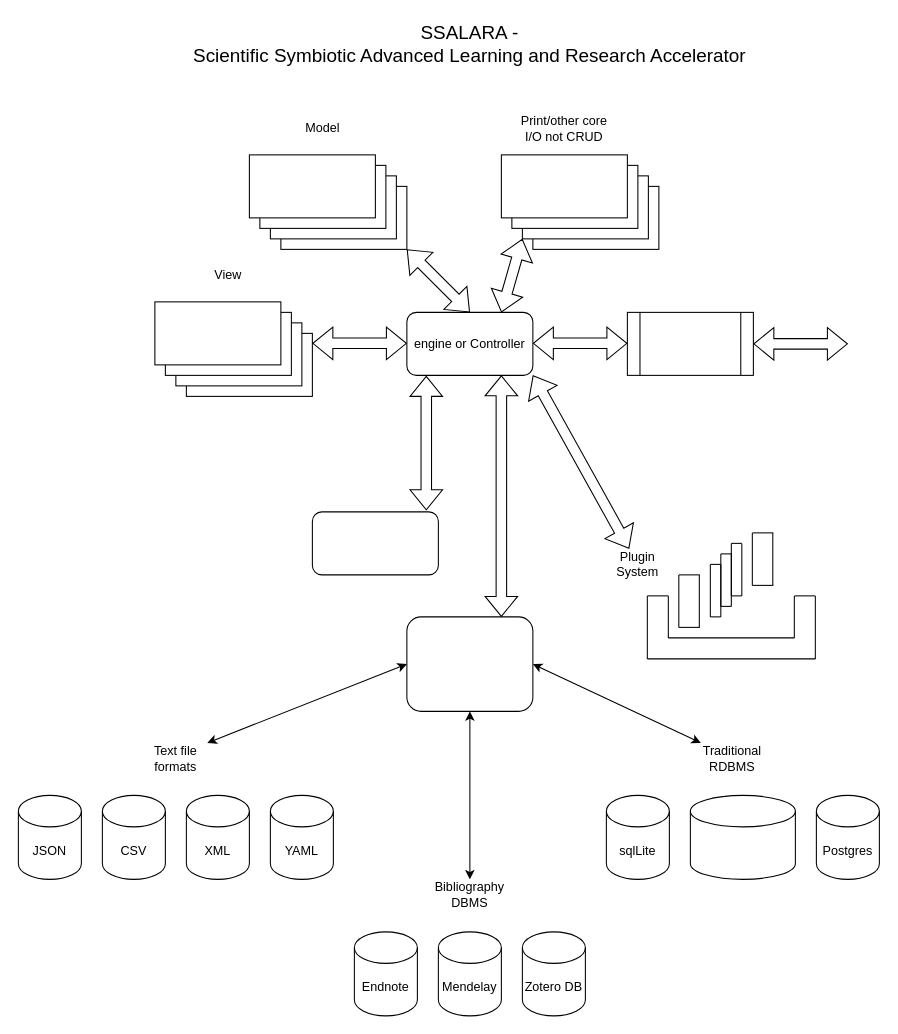
The diagram is 898 pixels wide and 1034 high, and some of its shapes have lost their labels. The shapes that lost their labels are listed below. From the top down, each one's box as (x1, y1, x2, y2) in pixels, then its label:
(626, 311, 753, 375): REST
(311, 511, 438, 575): in memory cache - optional
(406, 616, 533, 711): CRUD interface Create Read Update Delete
(689, 794, 795, 879): mySQL/MariaDB
